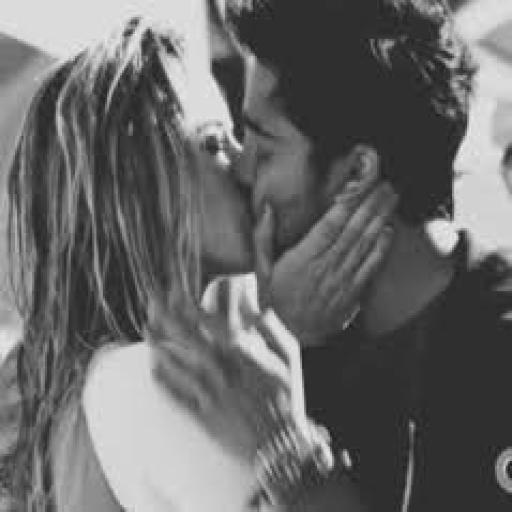hugging: (208, 0, 510, 510)
